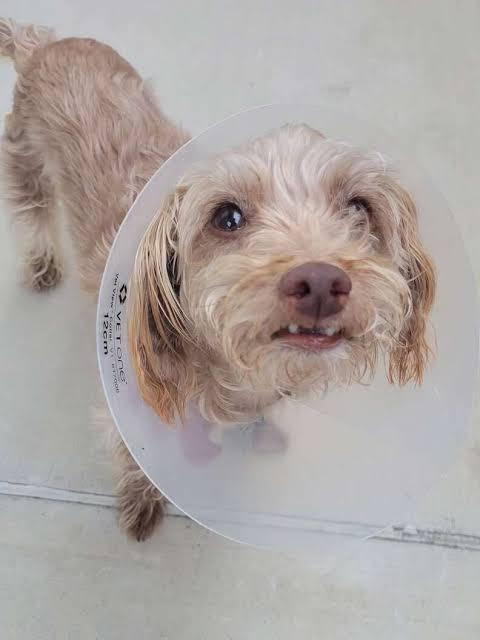adult_dog: (0, 17, 440, 547)
